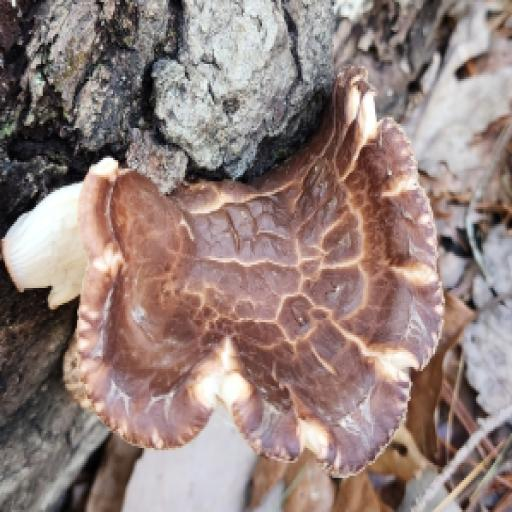Shiitake Mushroom: (69, 64, 431, 446)
